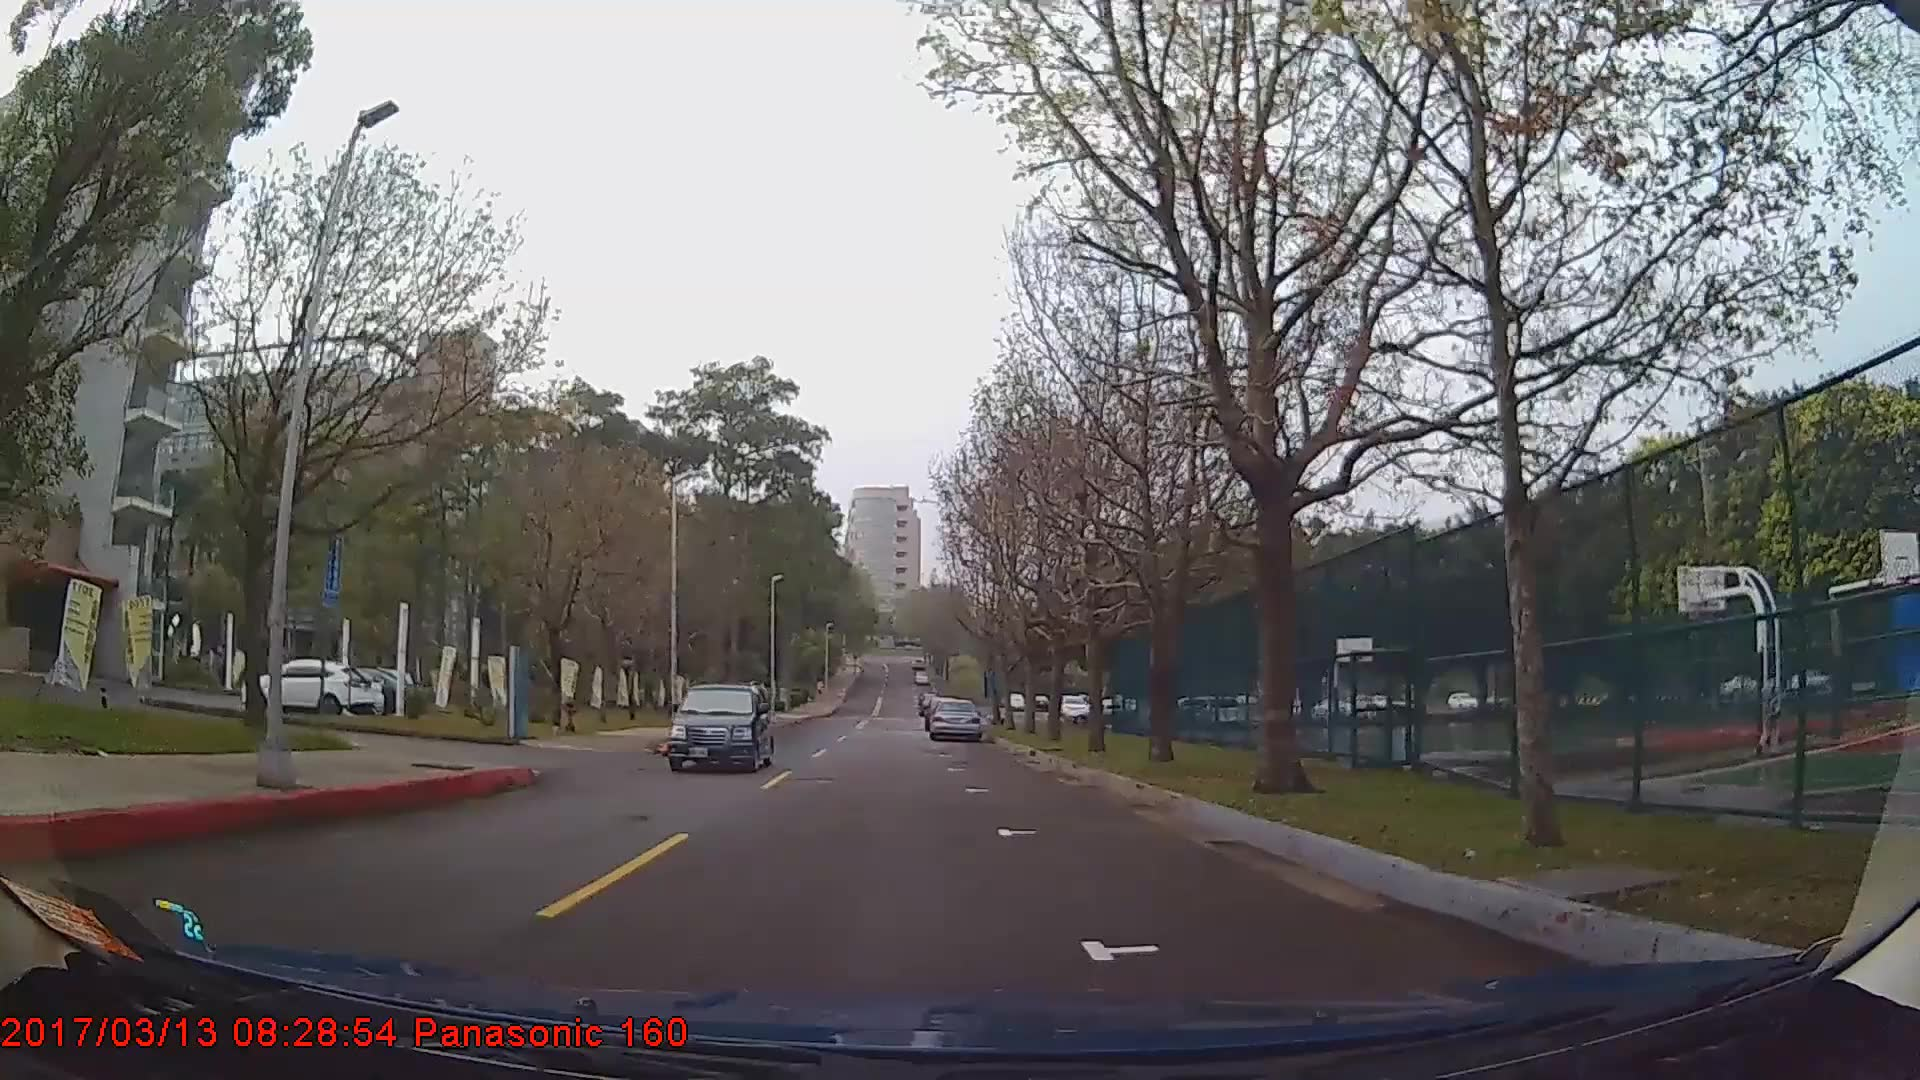vehicle: (665, 679, 775, 771), (237, 659, 375, 717), (928, 695, 982, 741)
